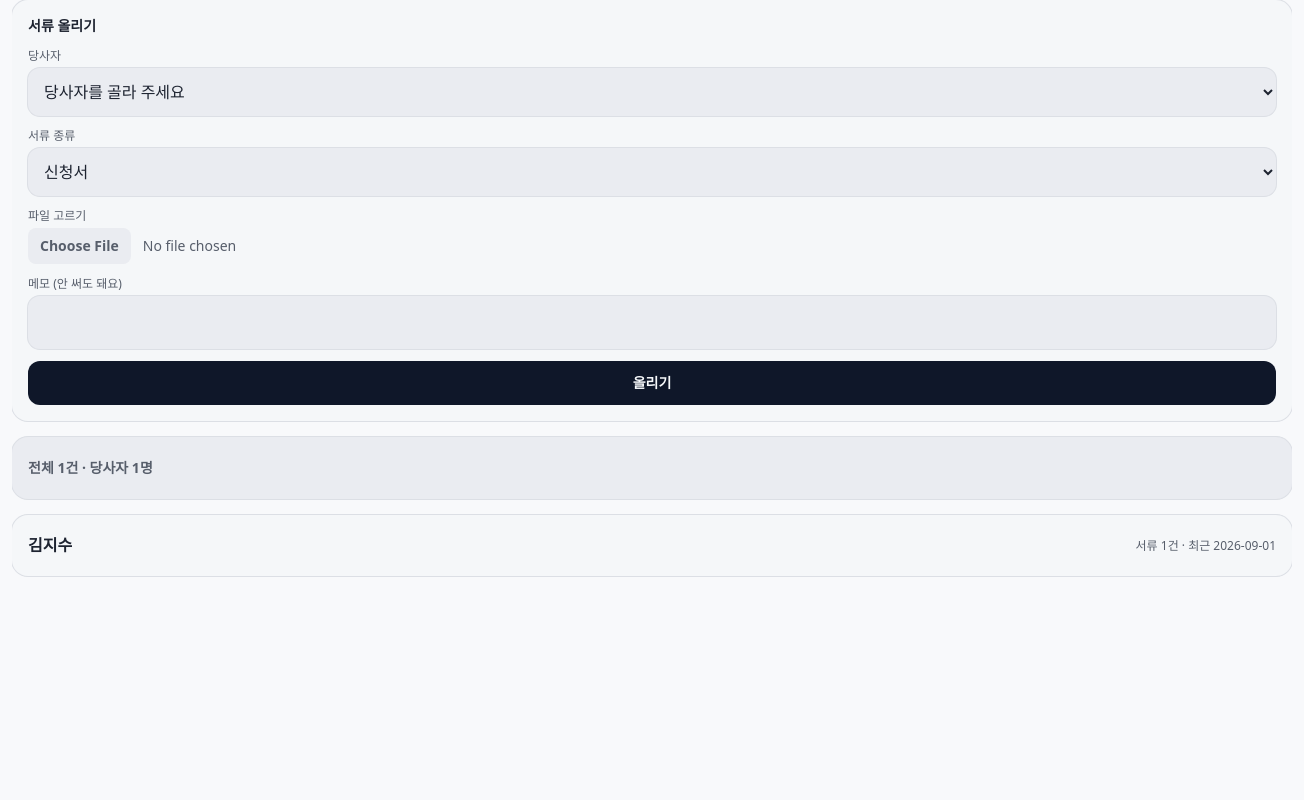
Test: DocumentShelfClient — 삭제 + 당사자 선택 업로드 (A3·F1) › 펼친 그룹의 문서에 삭제 컨트롤이 있다
Step 1. Click the button "김지수 서류 1건 · 최근 2026-09-01" → (50, 545), box [12,515,1292,576]
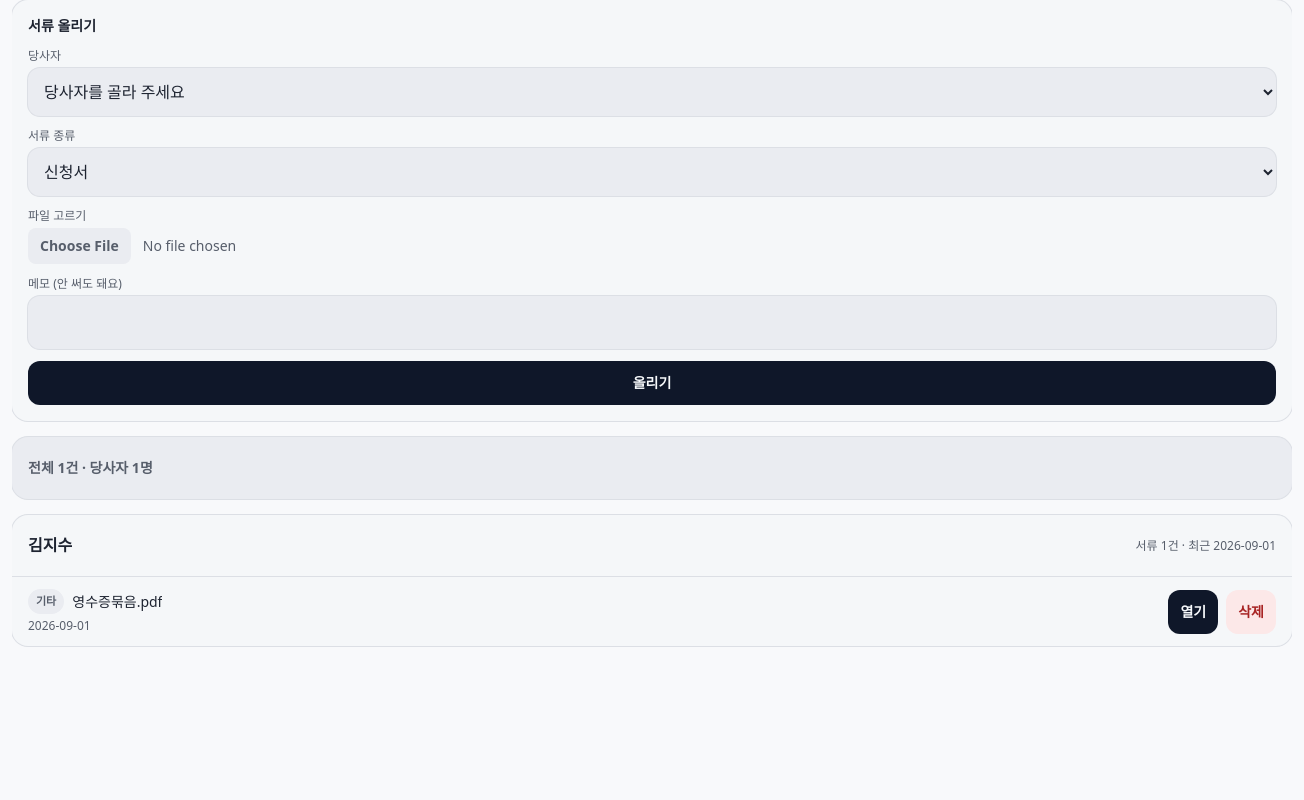
Expected: the button "삭제" is shown, [1226,590,1276,634]
